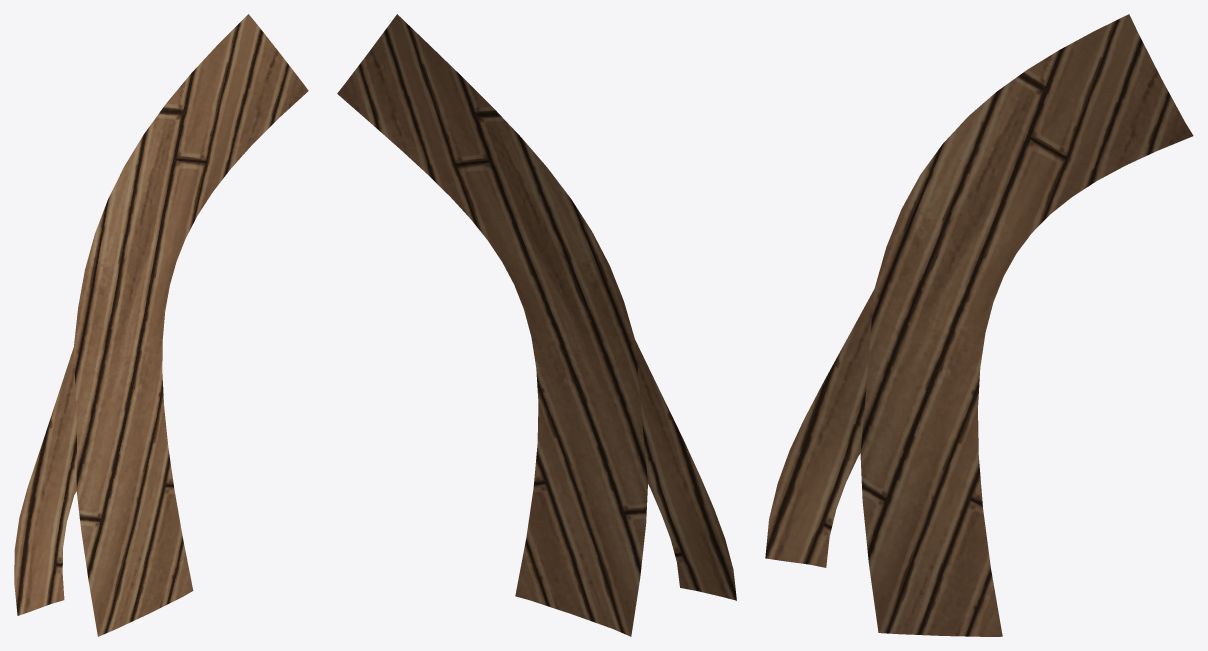
The model's file is wooden_bridge.glb.
3 renders of one model, left to right at view 1: azimuth 30°, elevation 25°; view 2: azimuth 150°, elevation 25°; view 3: azimuth 330°, elevation 25°, orthographic. The views are drawn at different scales.
Parts seen in each view (by area): view 1: stktex_generic_WoodA.png__; view 2: stktex_generic_WoodA.png__; view 3: stktex_generic_WoodA.png__.
Boxes of the visible parts, x1,y1,x2,y2 form: stktex_generic_WoodA.png__: (14,14,308,636); stktex_generic_WoodA.png__: (337,14,736,636); stktex_generic_WoodA.png__: (765,14,1193,636).
Bounding box in the file's own units: 55.6 × 89.18 × 12.04.
Materials: 1 (1 with a texture image).
